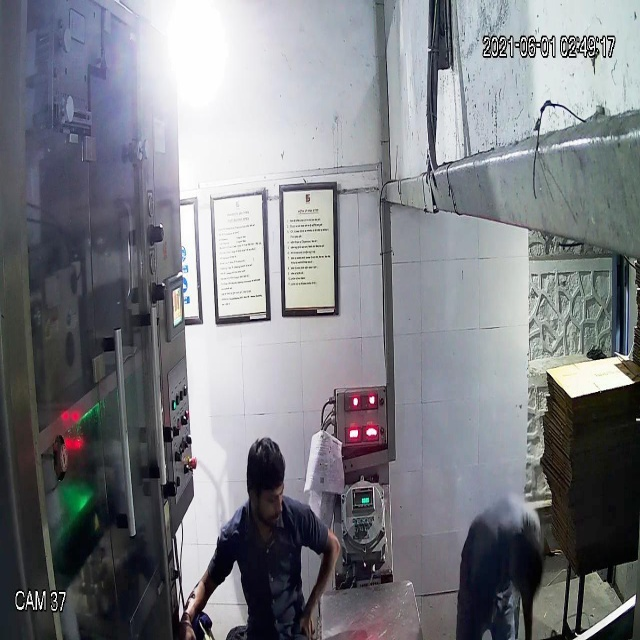Sin_gafas: (241, 475, 289, 509)
